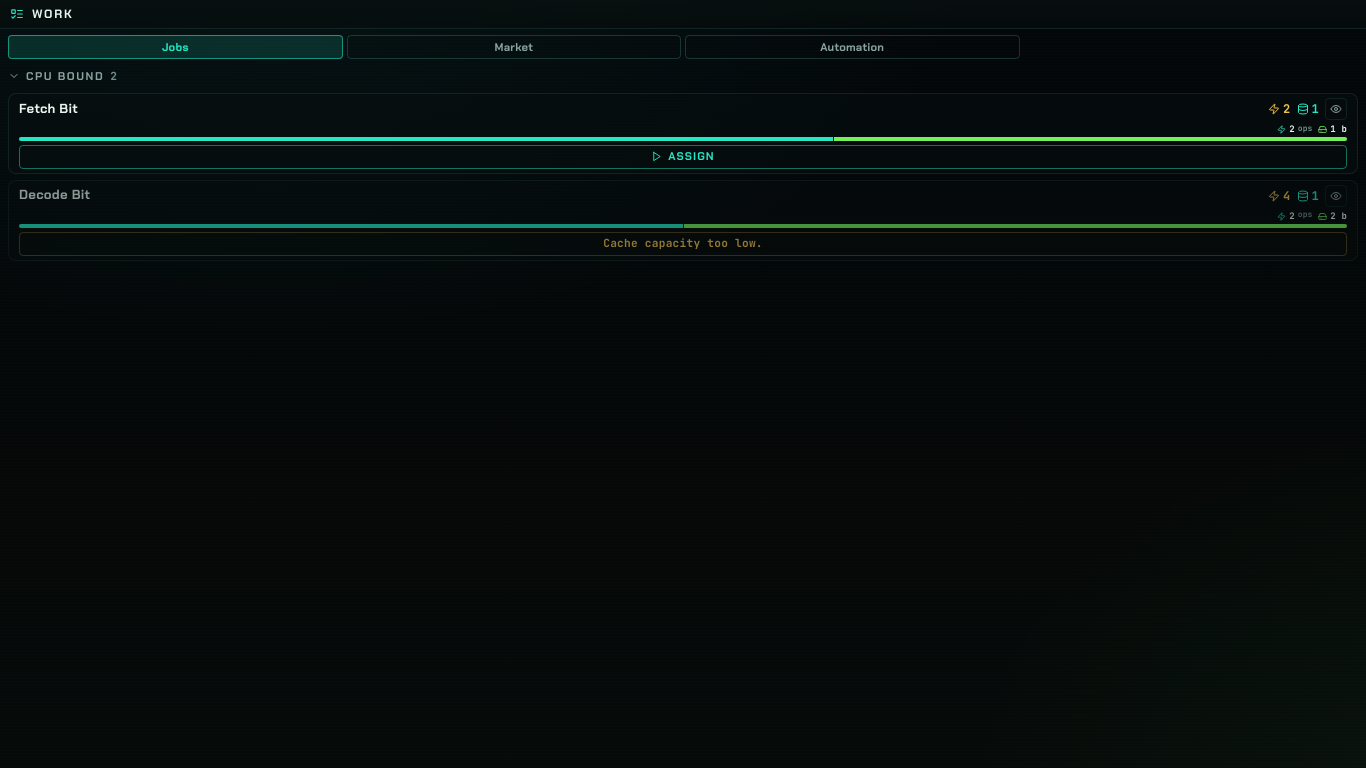
WorkPanel › forecasts coverage and labels unknown projections honestly
Click the tab with aria-label "Automation" at coordinates (852, 47), box x1=685 y1=35 x2=1020 y2=59
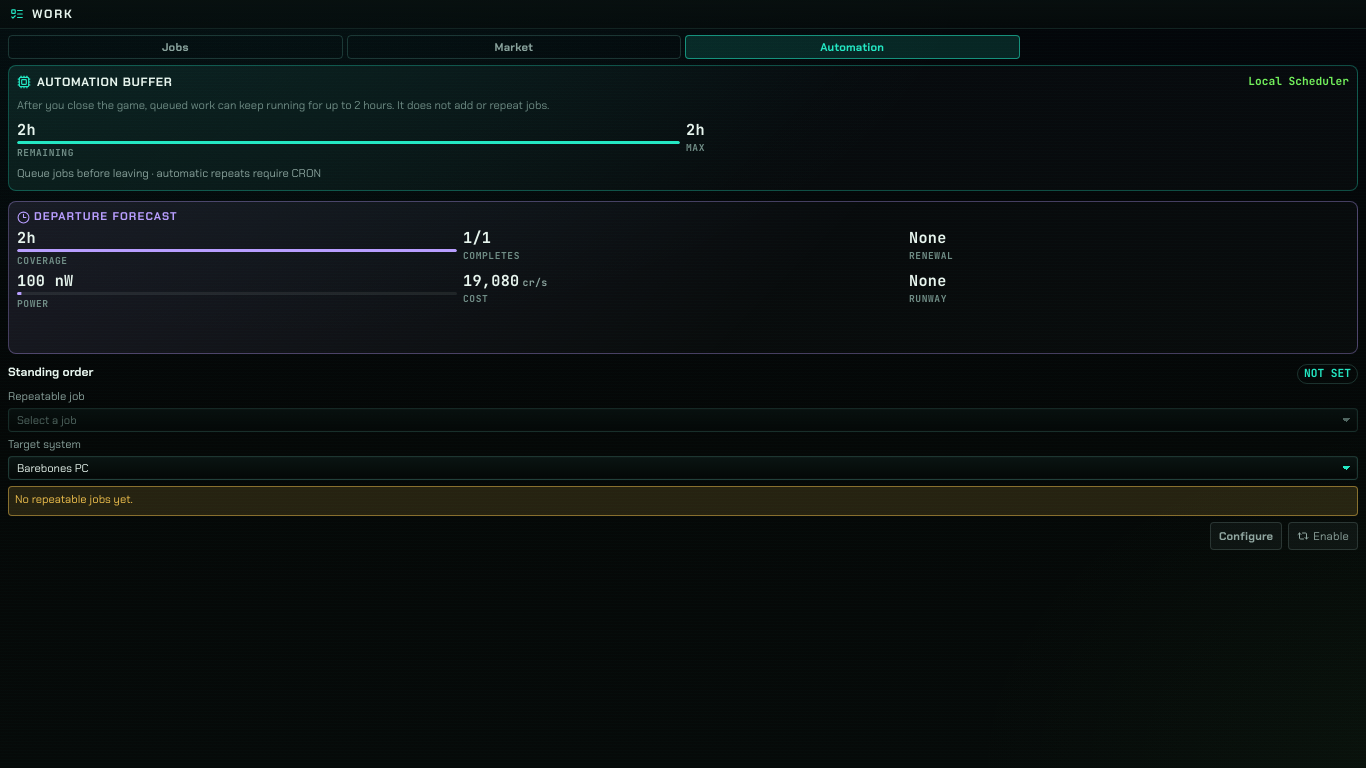
Now the element named "2h 0m of 2h offline window" is shown, box x1=17 y1=230 x2=457 y2=267
Now the element named "1 of 1 timed active item complete within coverage." is shown, box x1=463 y1=228 x2=520 y2=262
Now the element named "Pre-departure forecast" shows "Renewal", box x1=909 y1=249 x2=953 y2=262
